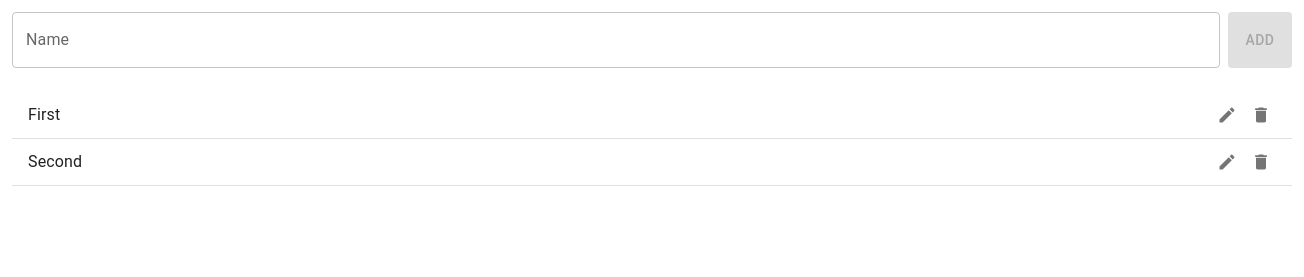
Test: EditableEntityList › shows feedback for failed add and update operations
The image size is (1304, 277).
Type "New One" into the field labelled "Name" at [616, 40], box [12,12,1220,68]
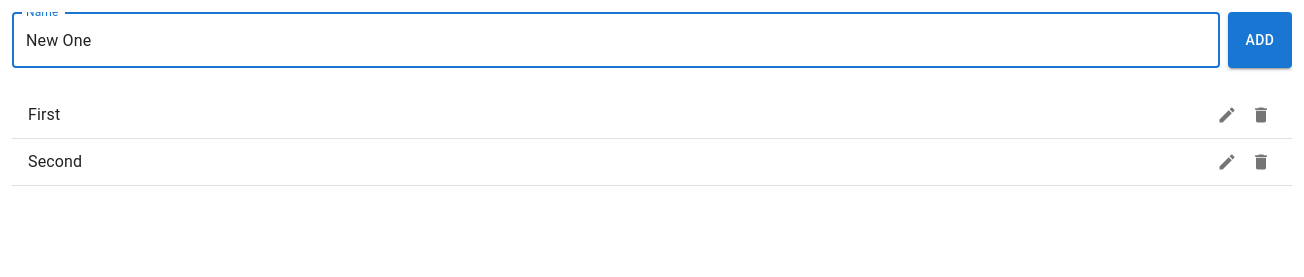
Click the button "Add" at [1260, 40], box [1228,12,1292,68]
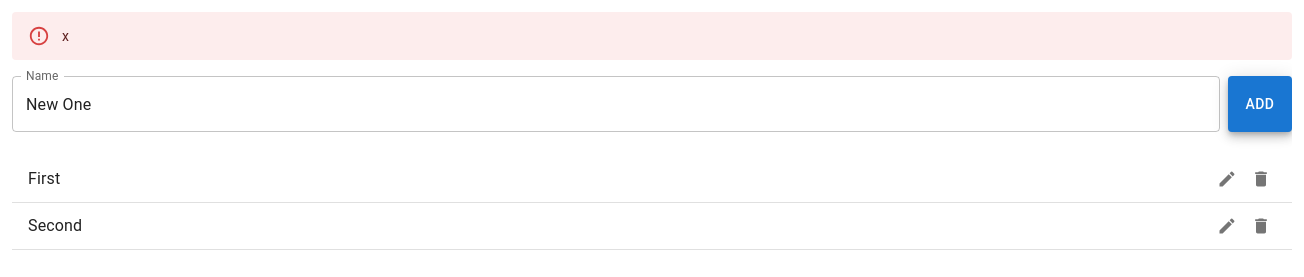
Now the text "x" is shown, box [62,28,69,44]
Click the button named "edit first" at [1227, 179], box [1212,164,1242,194]
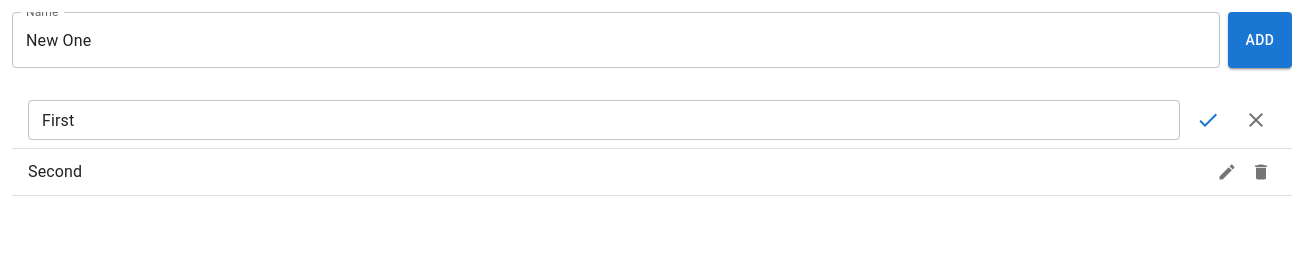
Replace the text in the field showing "First" with "Updated" at [604, 120], box [28,100,1180,140]
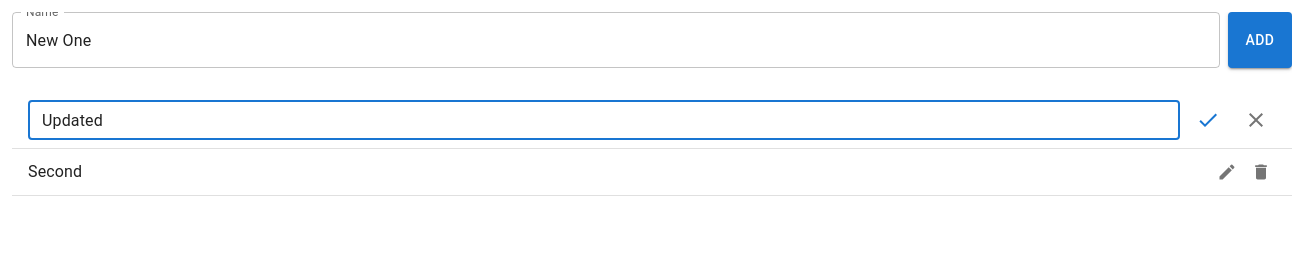
Click the button named "save item" at [1208, 120], box [1188,100,1228,140]
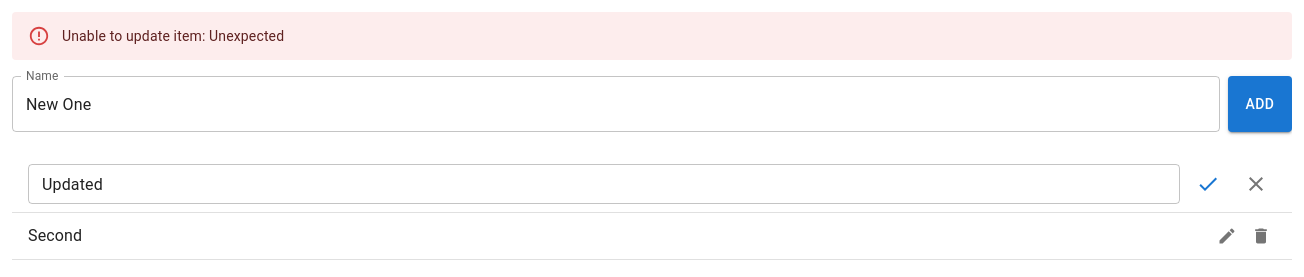
Now the text "Unable to update item: Unexpected" is shown, box [62,28,284,44]
